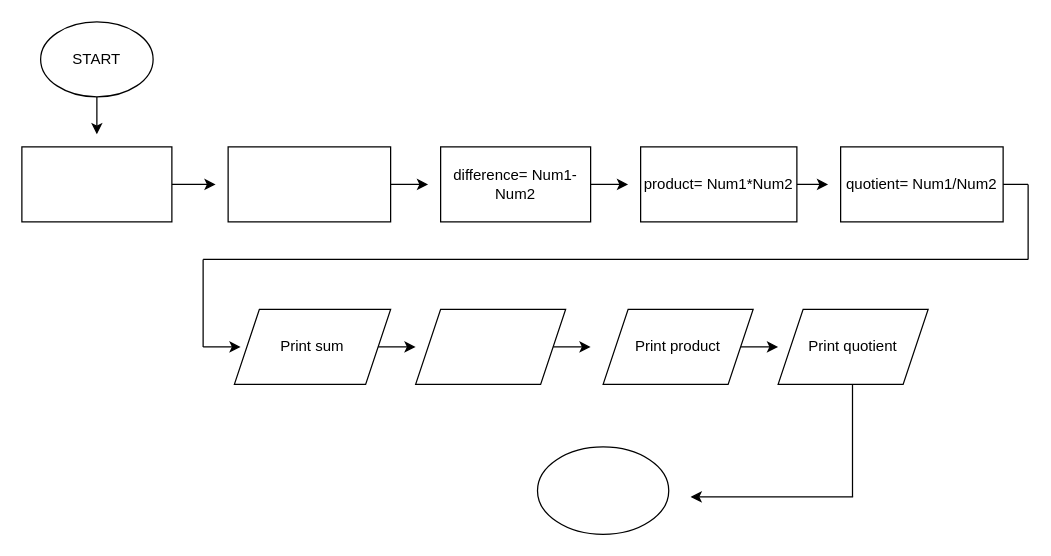
The diagram is 1051 pixels wide and 556 high, and some of its shapes have lost their labels. Each missing label, with the box of its shape:
END: (536, 446, 669, 534)
Input Num1, Num2: (21, 146, 172, 222)
Print difference: (414, 308, 566, 384)
sum = Num1 + Num2: (227, 146, 391, 222)
